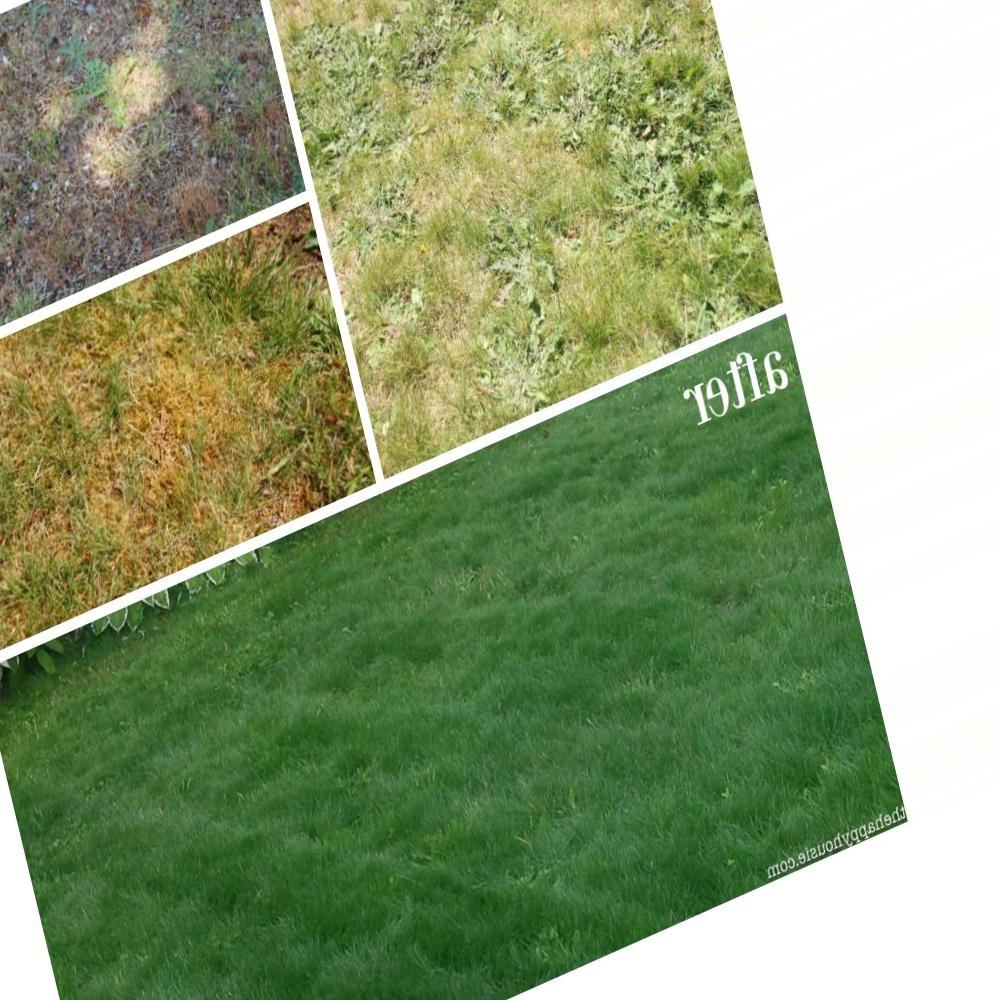patch: (304, 20, 739, 252), (375, 266, 587, 369), (138, 358, 281, 501), (36, 373, 121, 500), (175, 316, 268, 341), (94, 139, 141, 188), (121, 56, 154, 101), (88, 337, 113, 350)
